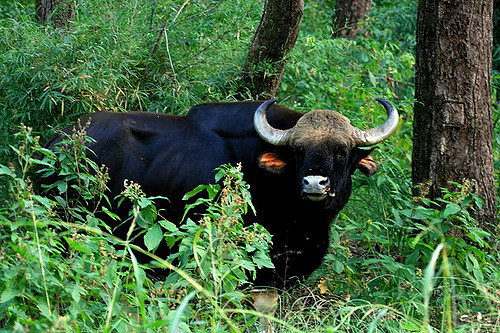bison: (21, 100, 388, 288)
